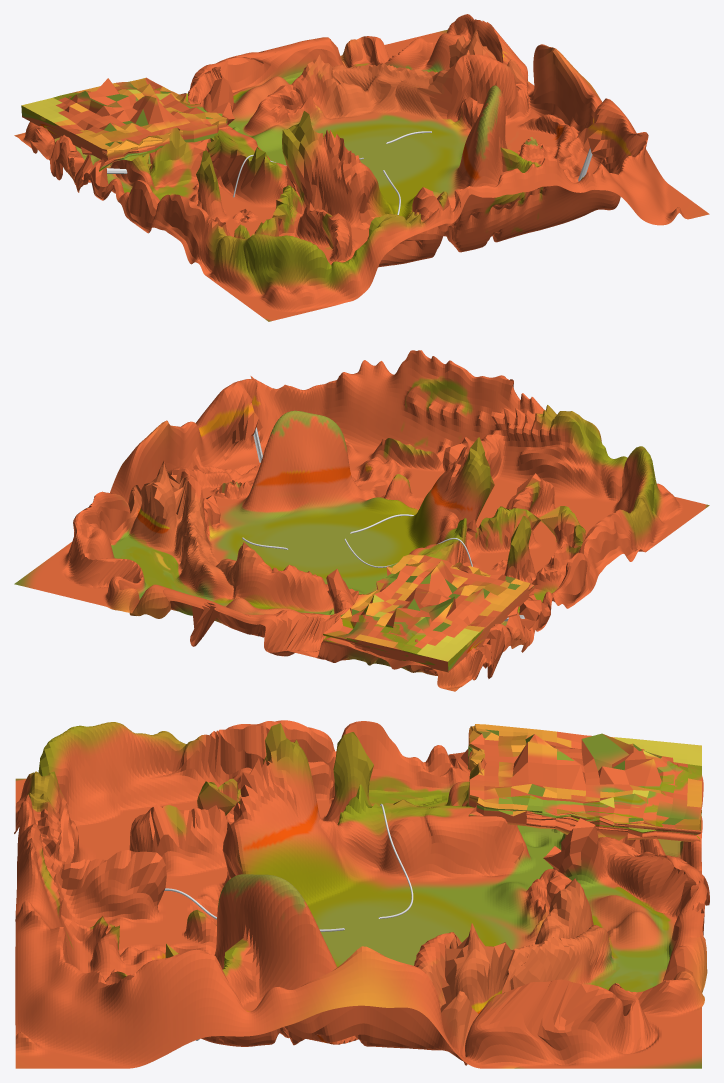
The model's file is Landscape_1 (3).fbx.
The picture shows the model from 3 angles, top to bottom: view 1: azimuth 30°, elevation 25°; view 2: azimuth 150°, elevation 25°; view 3: azimuth 270°, elevation 25°; orthographic projection. The views are drawn at different scales.
Parts seen in each view (by area): view 1: Plane, Cave1; view 2: Plane, Cave1; view 3: Plane, Cave1.
Part boxes in pixels (left/top/right/bottom): Plane: left=14, top=14, right=709, bottom=321; Cave1: left=21, top=77, right=233, bottom=171; Plane: left=14, top=350, right=709, bottom=691; Cave1: left=323, top=554, right=536, bottom=672; Plane: left=14, top=720, right=709, bottom=1068; Cave1: left=468, top=724, right=701, bottom=842.
Size of the model in its own units: 37195 by 10024 by 37124.
